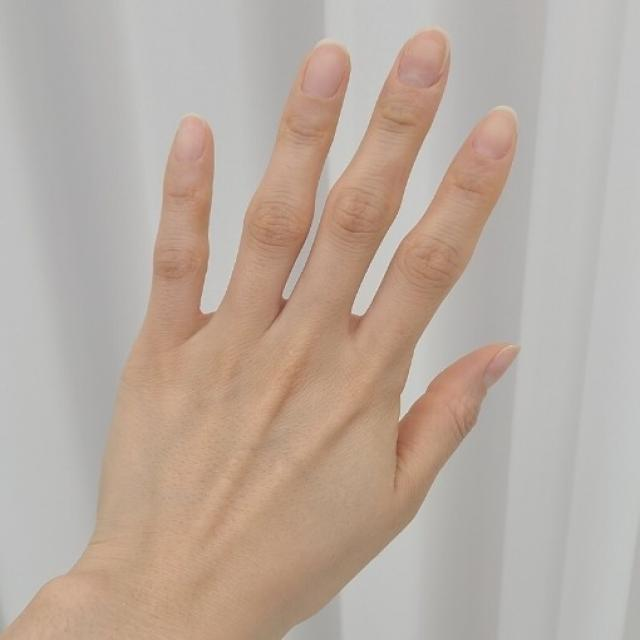Nail: (402, 27, 450, 89), (301, 42, 349, 101), (473, 106, 519, 160), (172, 115, 207, 164), (484, 346, 520, 390)
